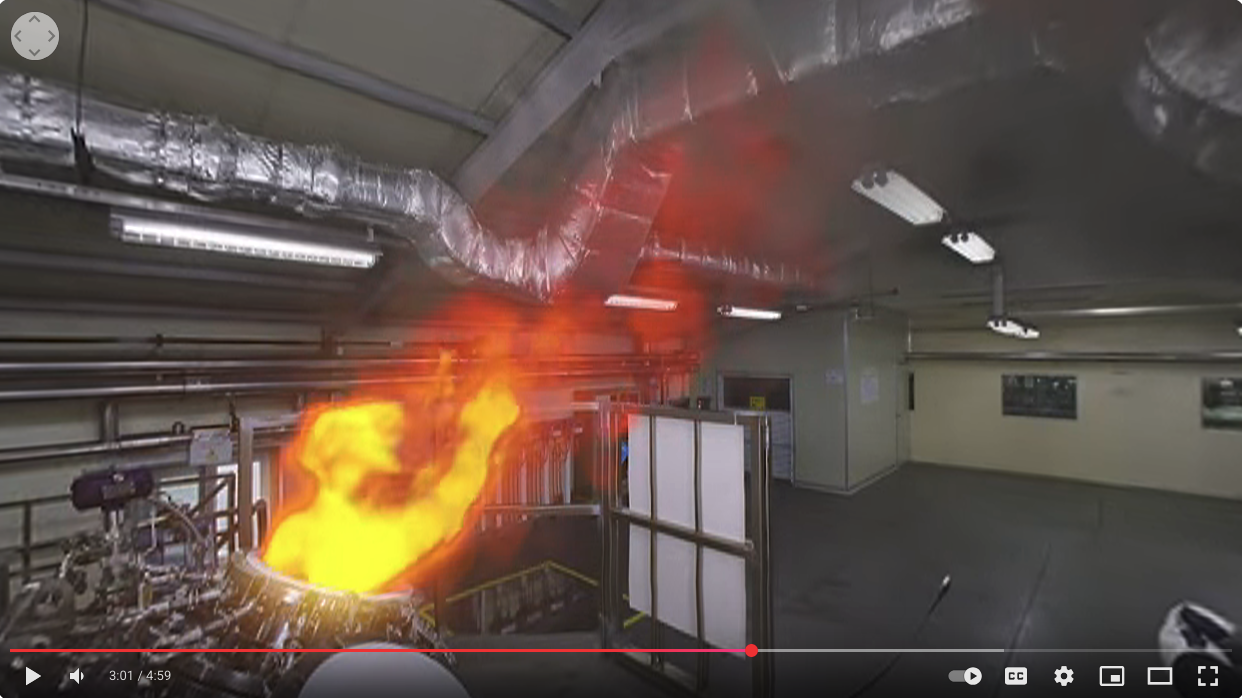fire: (186, 105, 696, 618)
